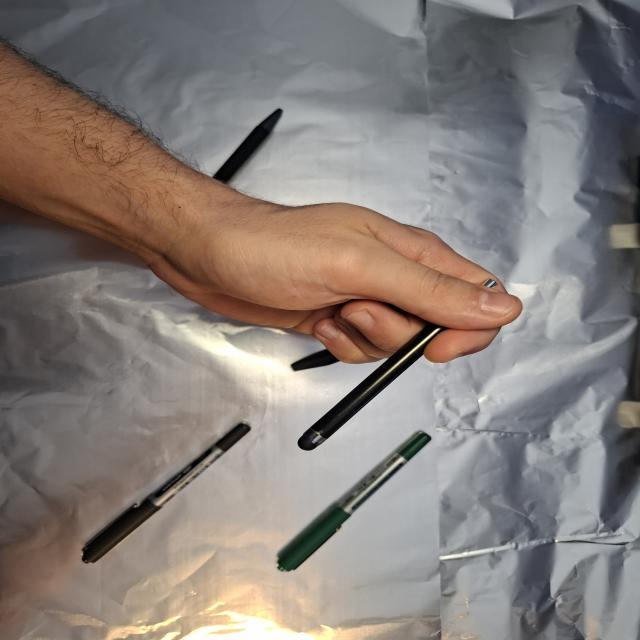glove_off: (135, 199, 530, 366)
